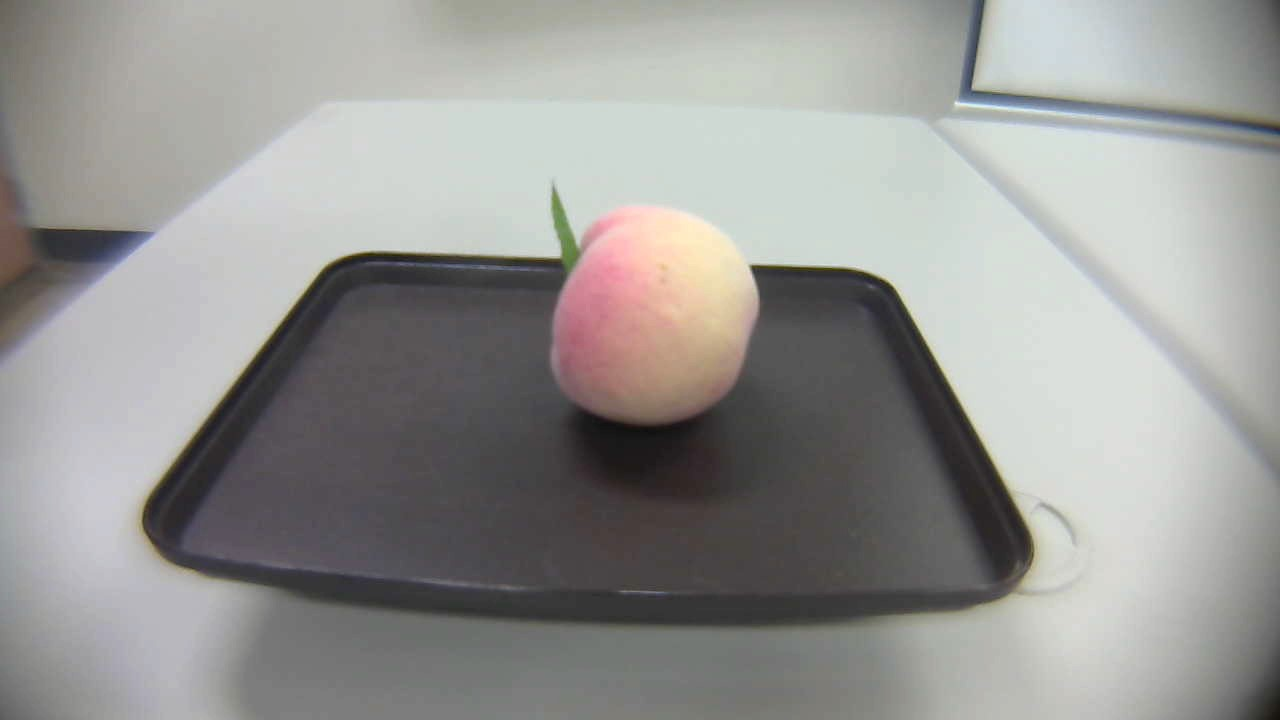peach: (538, 171, 770, 437)
